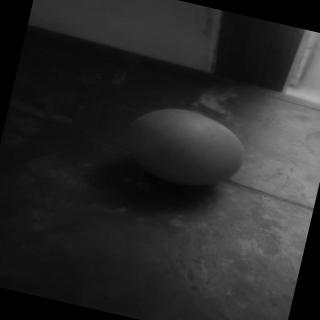Telur: (113, 94, 258, 204)
